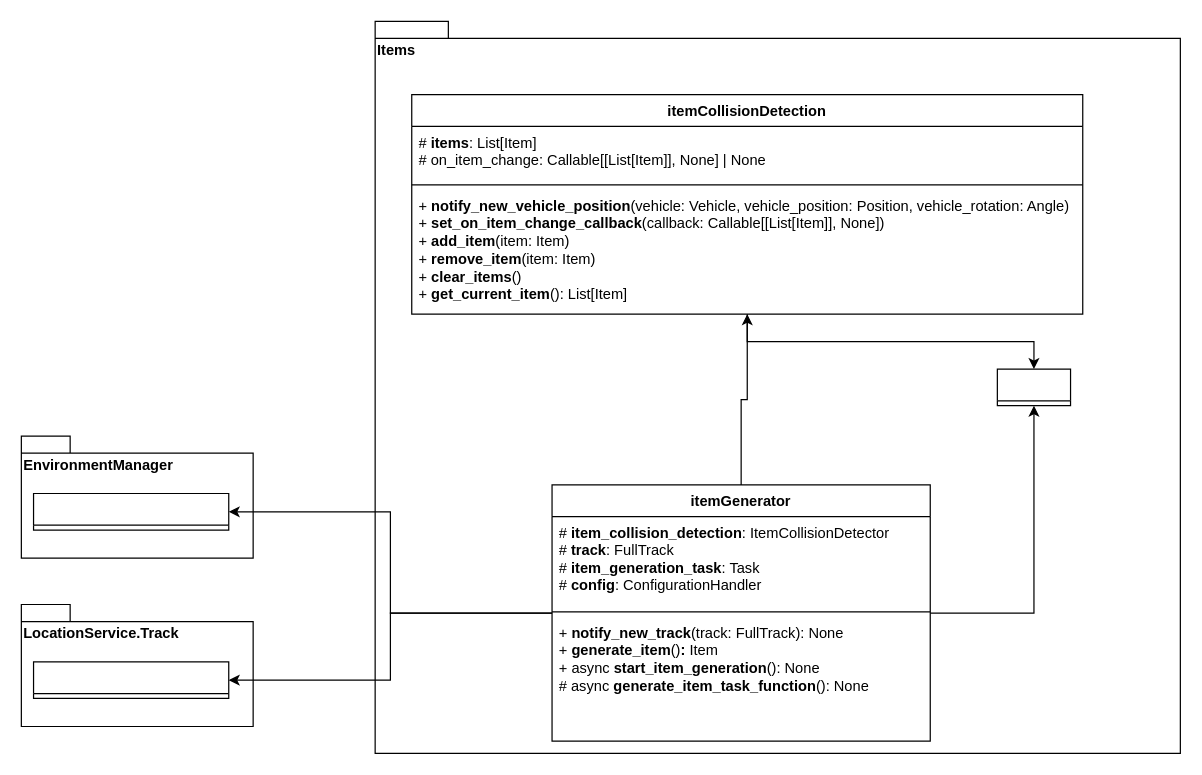
The diagram is 1202 pixels wide and 775 high, and some of its shapes have lost their labels. The centre of each missing label's shape, as x and y in pixels:
ConfigurationHandler: (x=130, y=511)
FullTrack: (x=130, y=679)
item: (x=1033, y=387)
